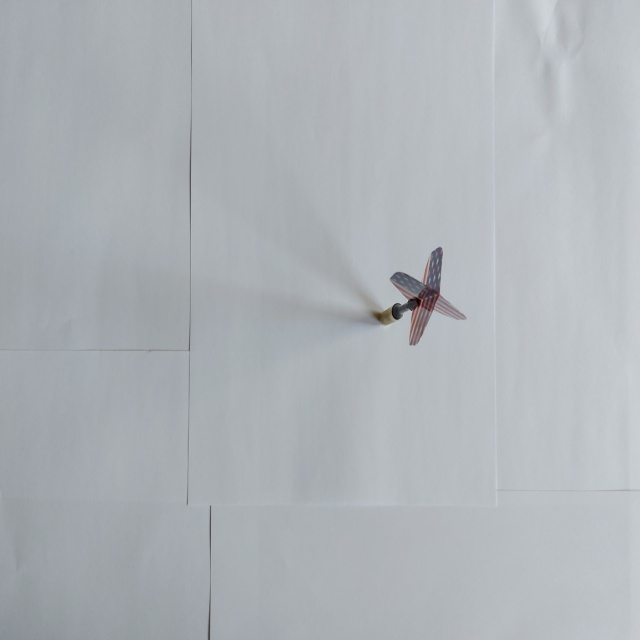Dart: (367, 242, 473, 352)
